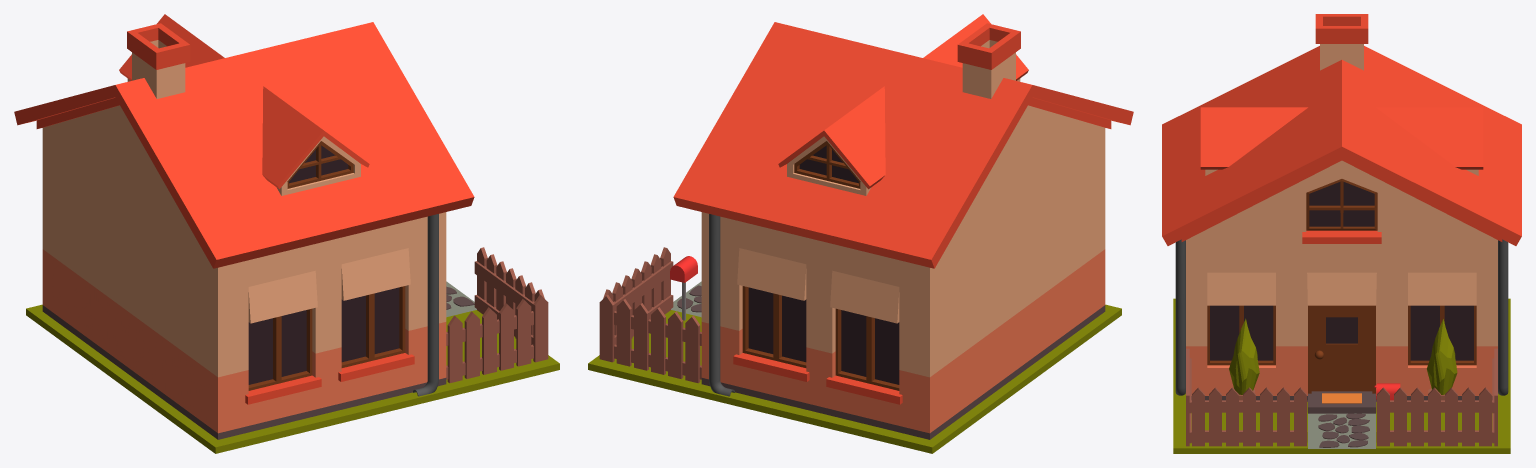
File: casa.glb
3 views of the same model, side by side, from view 1: azimuth 30°, elevation 25°; view 2: azimuth 150°, elevation 25°; view 3: azimuth 270°, elevation 25° (orthographic). The views are drawn at different scales.
Parts seen in each view (by area): view 1: PublicBuilding_3; view 2: PublicBuilding_3; view 3: PublicBuilding_3.
Boxes of the visible parts, x1,y1,x2,y2 form: PublicBuilding_3: [14, 14, 559, 453]; PublicBuilding_3: [588, 14, 1133, 453]; PublicBuilding_3: [1162, 14, 1521, 453].
Size of what is drawn, in the model's own units: 3.68 by 3.39 by 3.69.
1 material, 1 textured.
